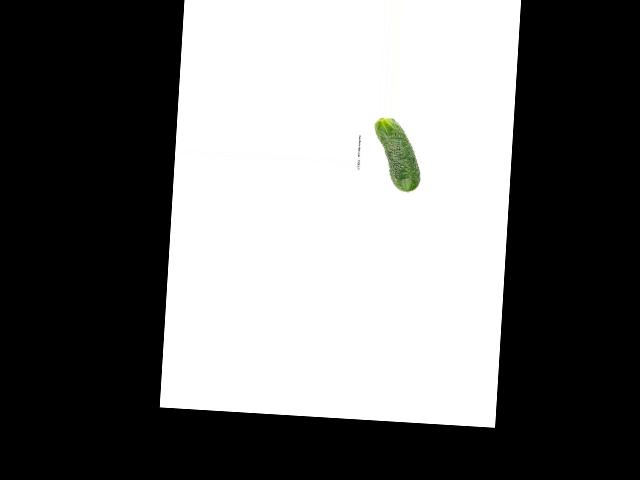cucumber: (370, 117, 423, 193)
